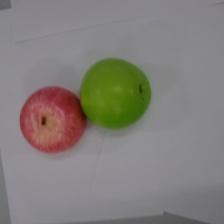green: (79, 56, 152, 129)
red: (19, 85, 88, 154)
